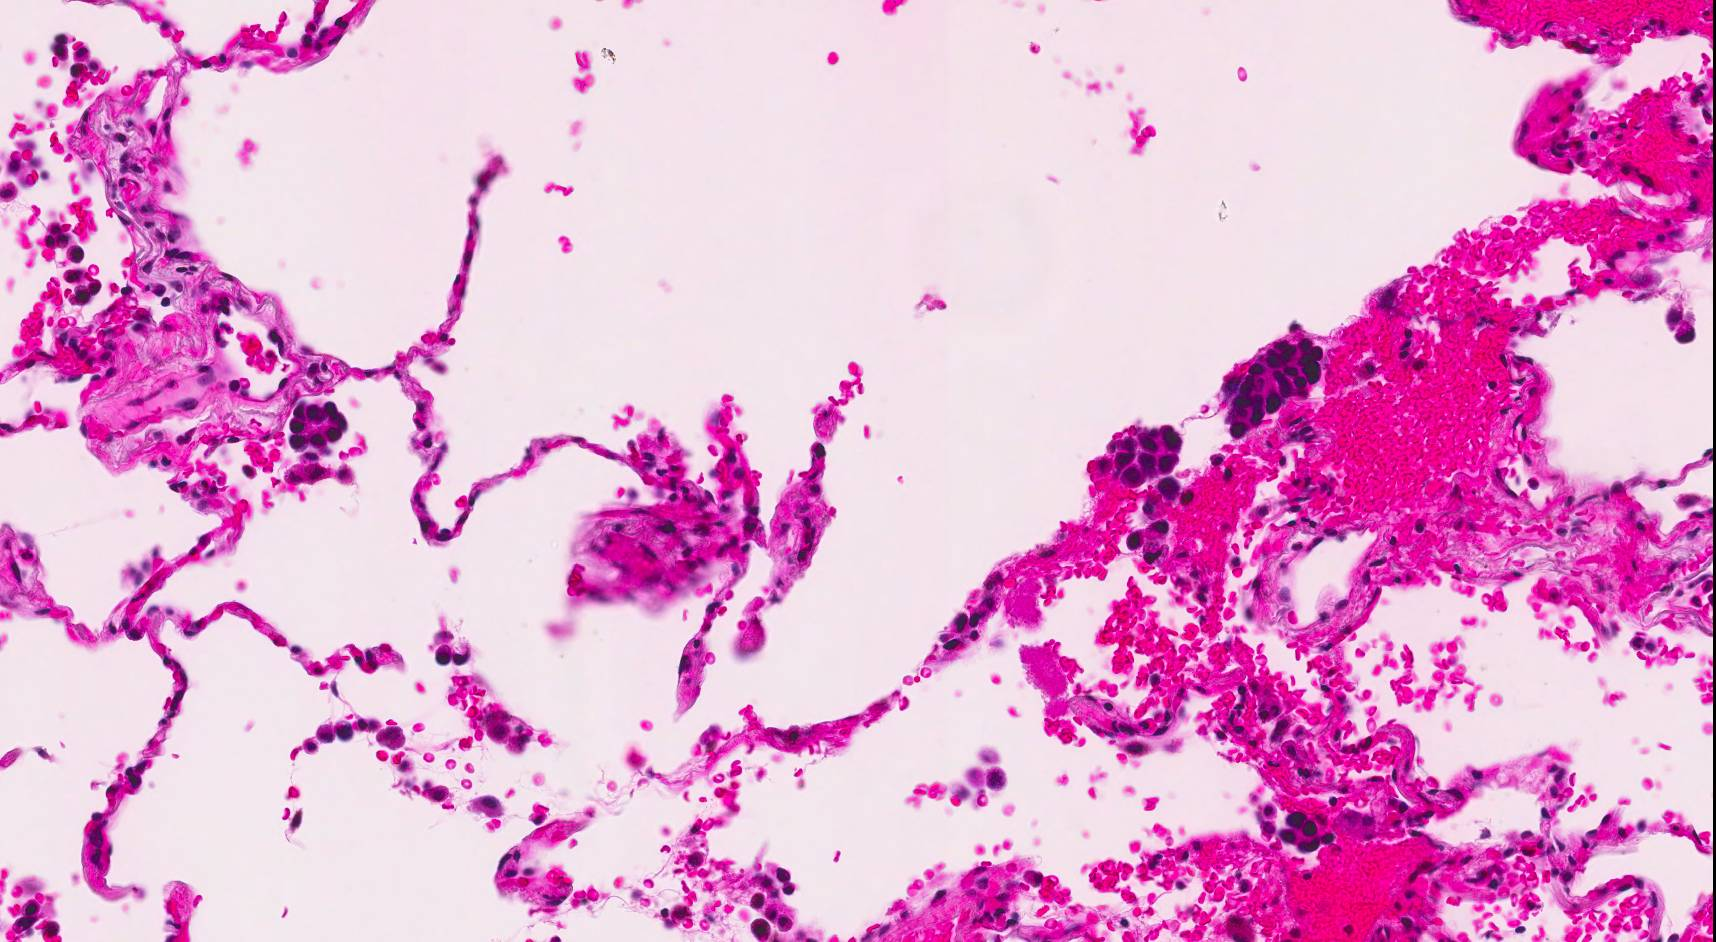stas: (1221, 338, 1328, 437), (1098, 426, 1182, 488), (285, 402, 350, 454), (1280, 809, 1335, 857), (1127, 515, 1169, 565)
